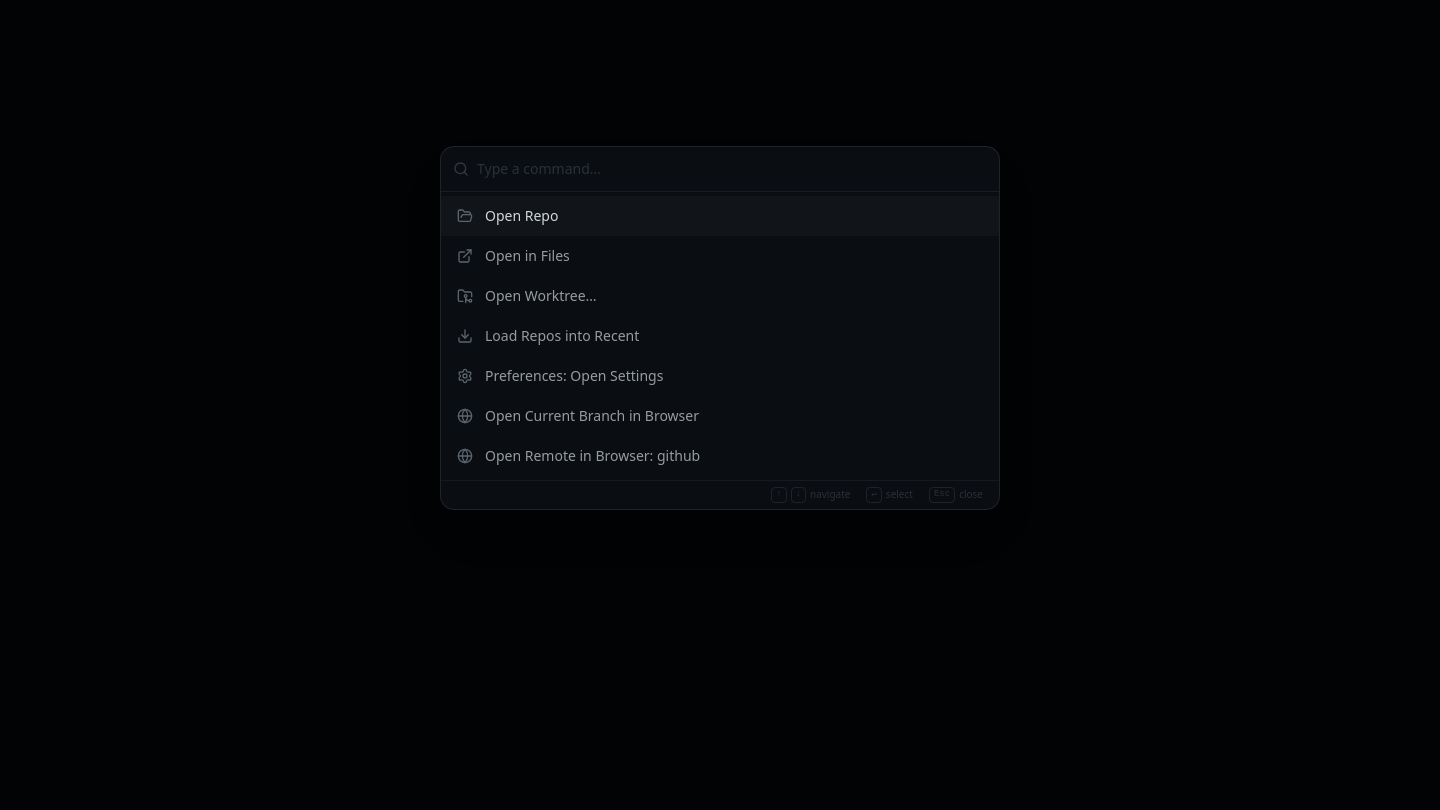
Scenario: CommandPalette — open in browser › says when the current branch is only on a remote without a web page
Click the button "Open Current Branch in Browser".
click(592, 415)  # box [441, 396, 999, 436]
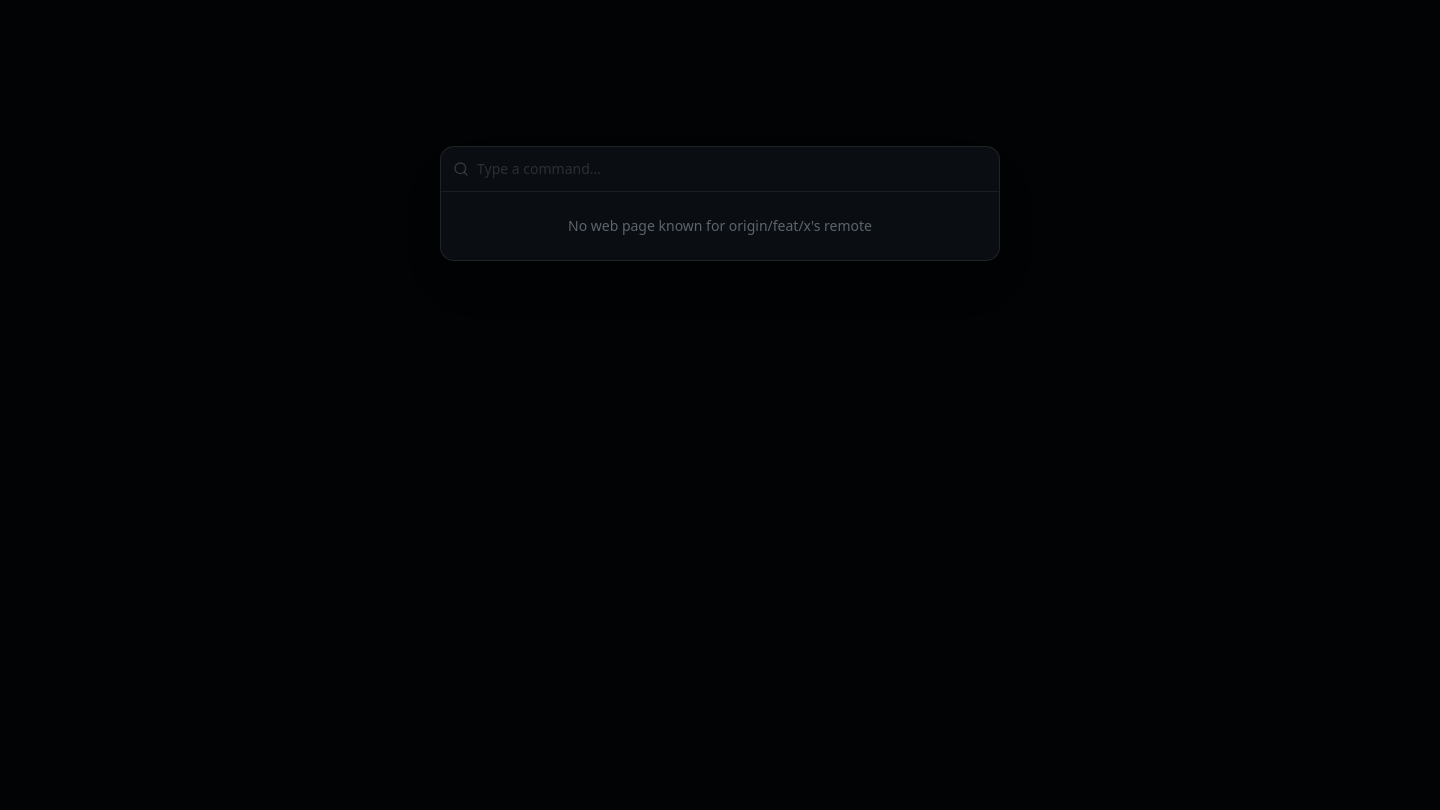
Expected: the text "No web page known for origin/feat/x's remote" is shown, [568, 216, 872, 235]
